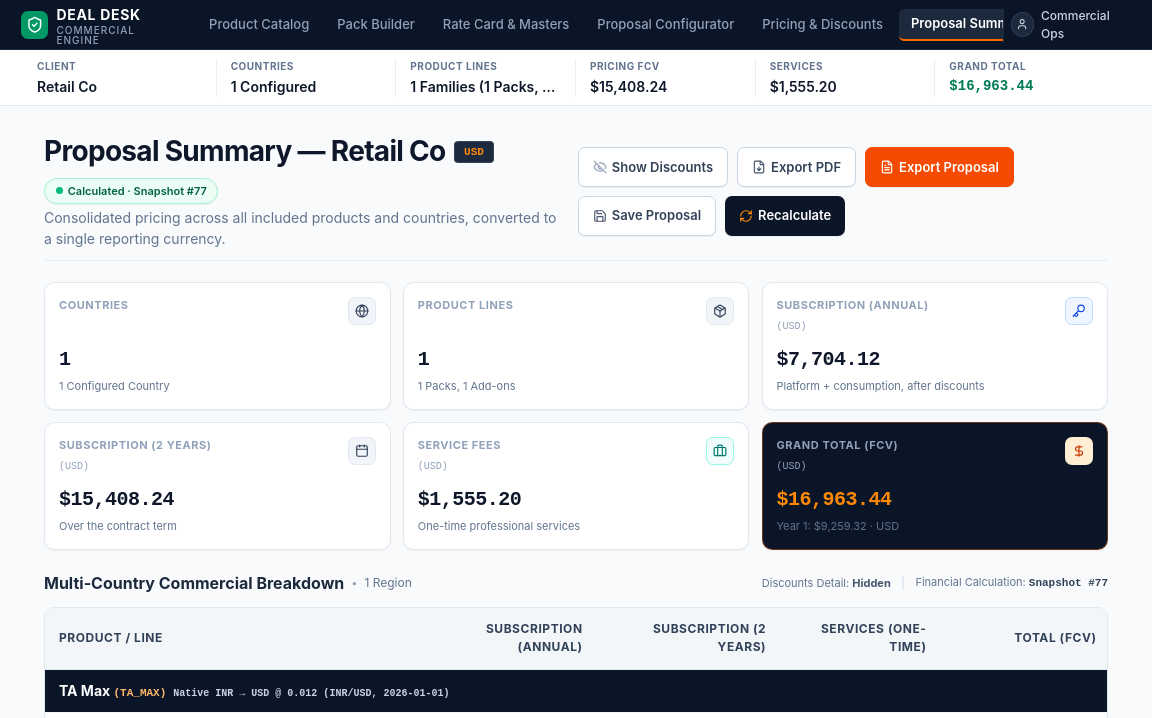
Test: ProposalSummaryPage — Export & Validation Unit Tests › handles 409 Conflict and 422 Blob error payloads on export cleanly
What coordinates should you click on to do the following:
click the button "Export Proposal"
I would click on:
 (939, 167)
Its box is [865,147,1014,187].
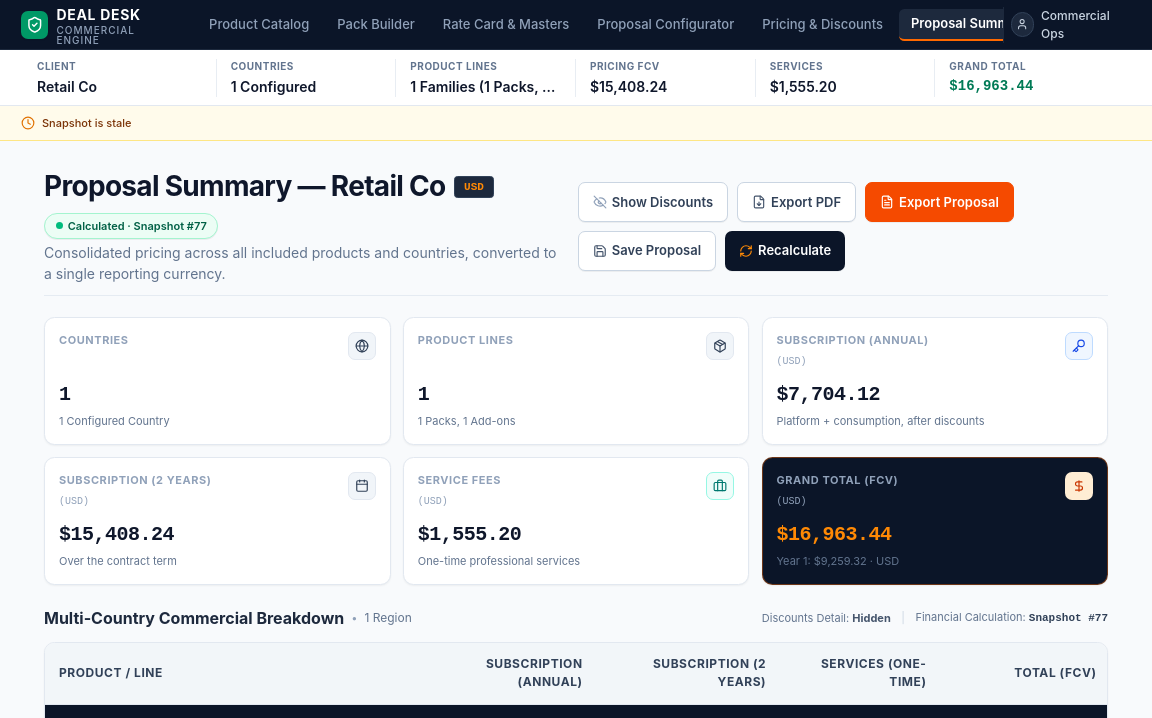
Check: the text "Snapshot is stale" is shown, box [42,115,132,132]
What coordinates should you click on to do the following:
click the button "Export Proposal"
I would click on:
 (939, 202)
Its box is [865,182,1014,222].
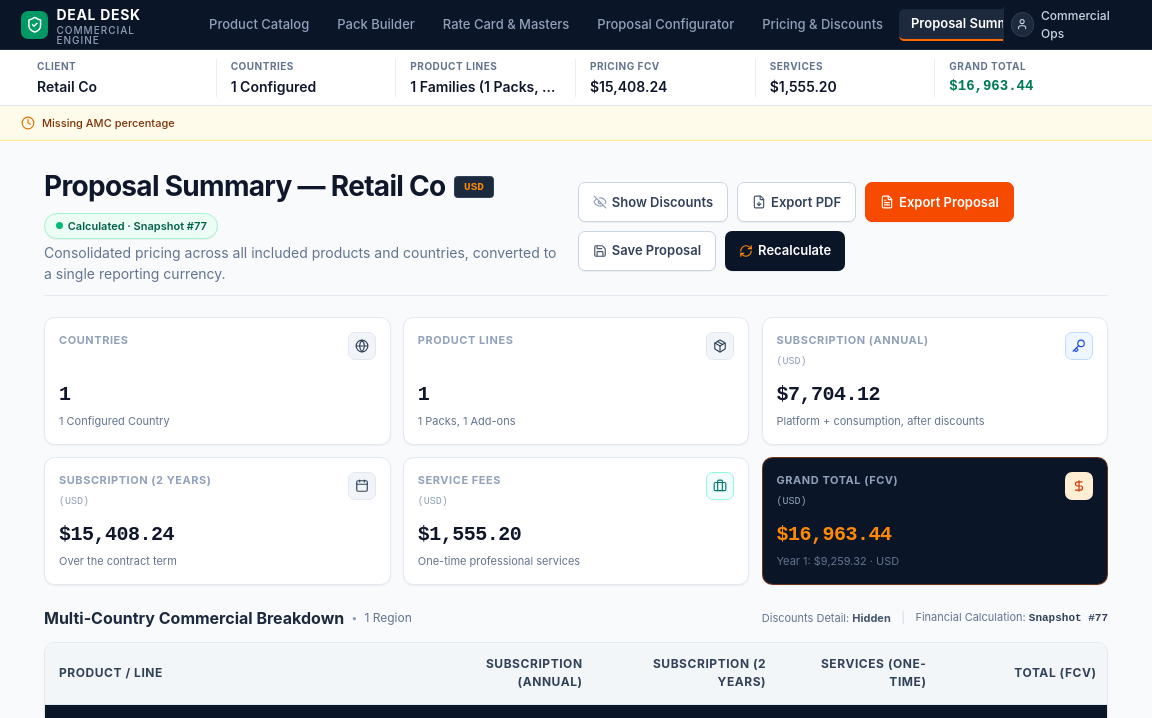
Check: the text "Missing AMC percentage" is shown, box [42,115,175,132]
